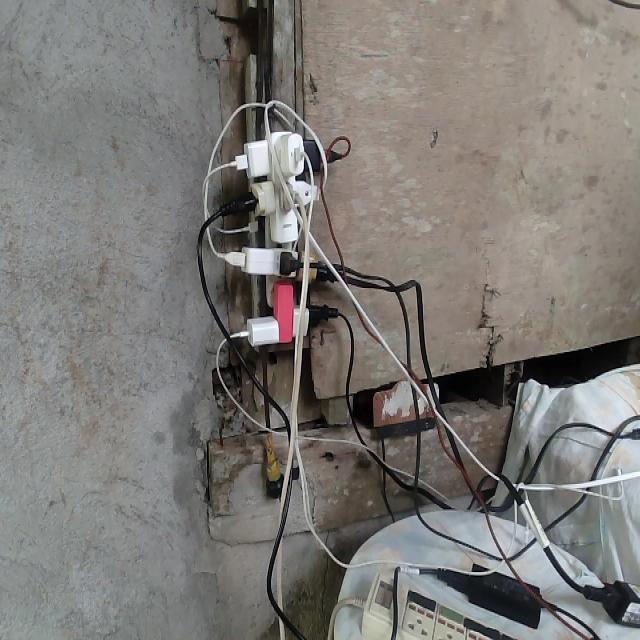-: (212, 127, 350, 344)
